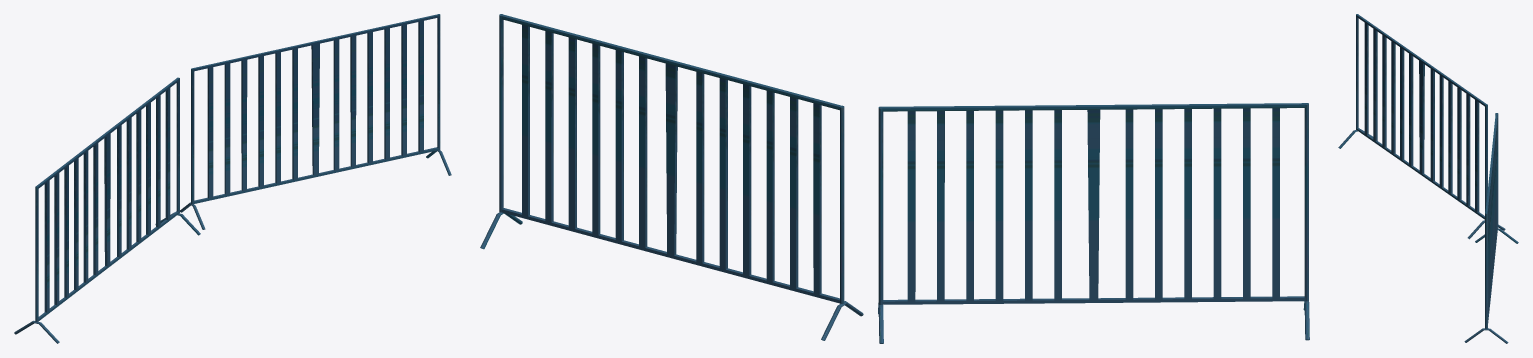
Rendered from vallasPoliciax2.fbx.
The picture shows the model from 3 angles, left to right: view 1: azimuth 30°, elevation 25°; view 2: azimuth 150°, elevation 25°; view 3: azimuth 270°, elevation 25°; orthographic projection. The views are drawn at different scales.
Parts seen in each view (by area): view 1: vallasPolicia.001; view 2: vallasPolicia.001; view 3: vallasPolicia.001.
Boxes of the visible parts, box(x1,y1,x2,y2) form: vallasPolicia.001: box(14, 14, 451, 343); vallasPolicia.001: box(480, 14, 1309, 343); vallasPolicia.001: box(1338, 14, 1518, 343).
Size of the model in its own units: 11.63 by 3.45 by 4.33.
